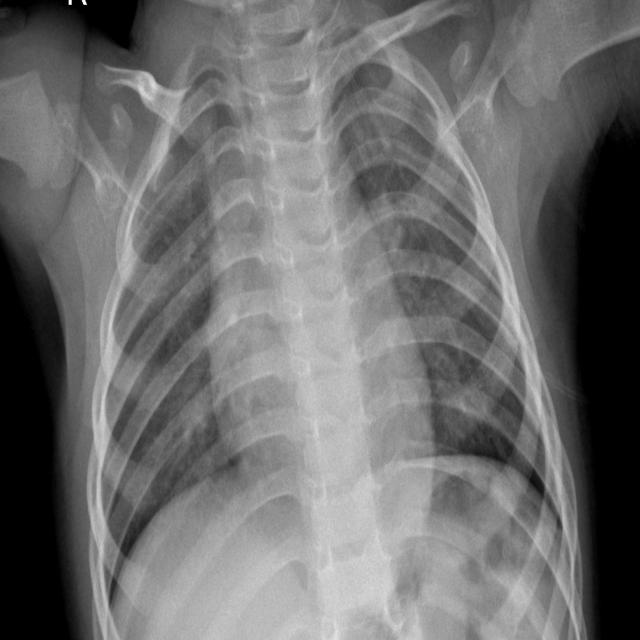no-pneumonia: (335, 58, 571, 522), (89, 125, 228, 594)
